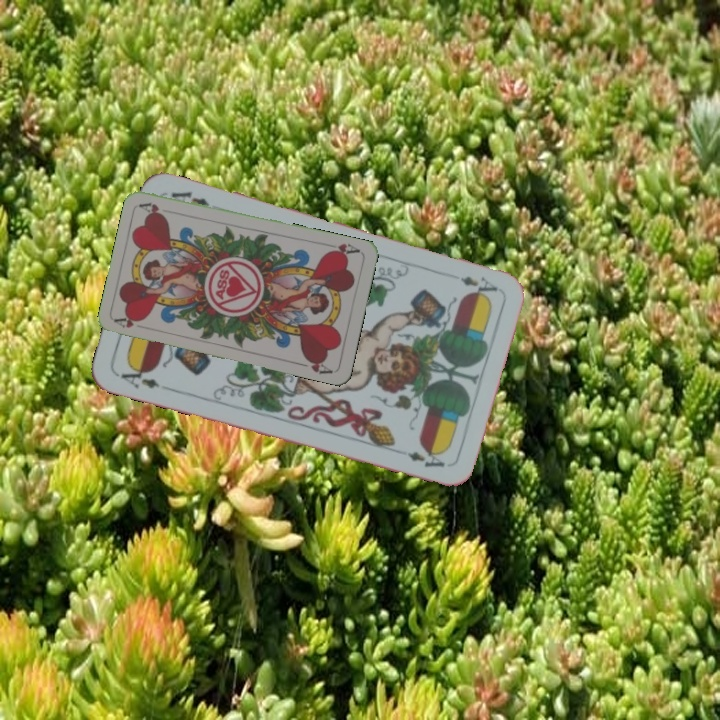EA: (117, 362, 162, 391), (456, 272, 501, 295)
HA: (322, 239, 363, 259), (112, 312, 146, 330)
